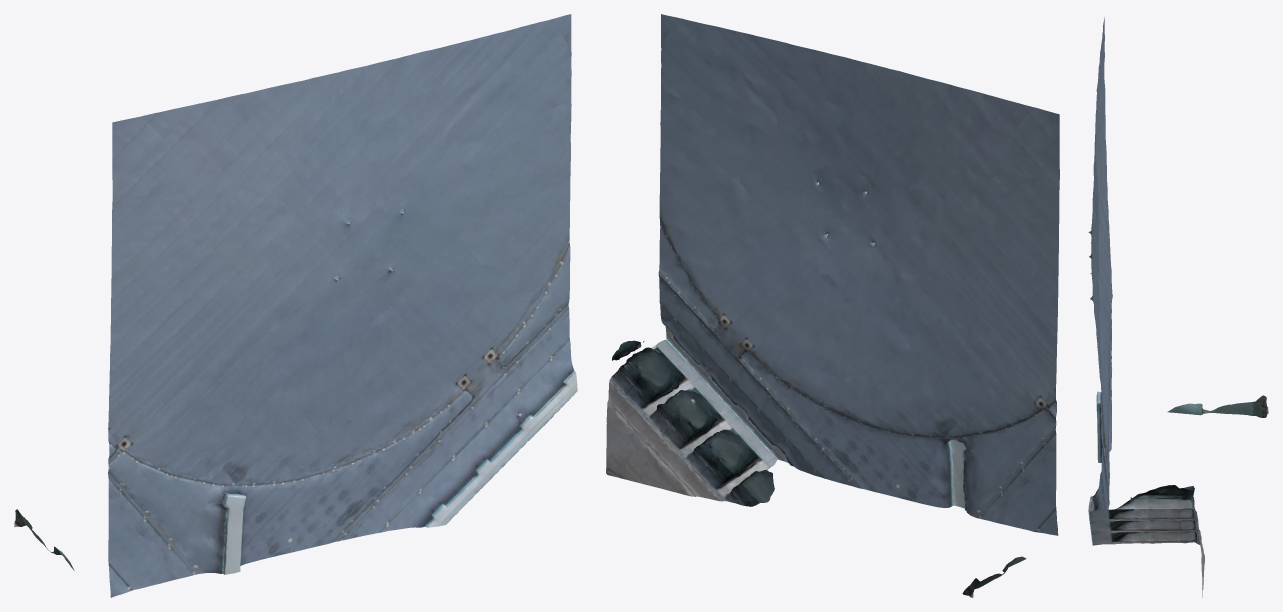
File: Tile_+016_+016.fbx
3 renders of one model, left to right at view 1: azimuth 30°, elevation 25°; view 2: azimuth 150°, elevation 25°; view 3: azimuth 270°, elevation 25°, orthographic. The views are drawn at different scales.
Visible parts, largest first — view 1: DefaultName; view 2: DefaultName; view 3: DefaultName.
Boxes of the visible parts, bbox=[...] form: DefaultName: bbox=[14, 14, 577, 597]; DefaultName: bbox=[606, 14, 1059, 597]; DefaultName: bbox=[1088, 17, 1268, 597].
Size of the model in its own units: 22.54 by 22.54 by 9.25.
